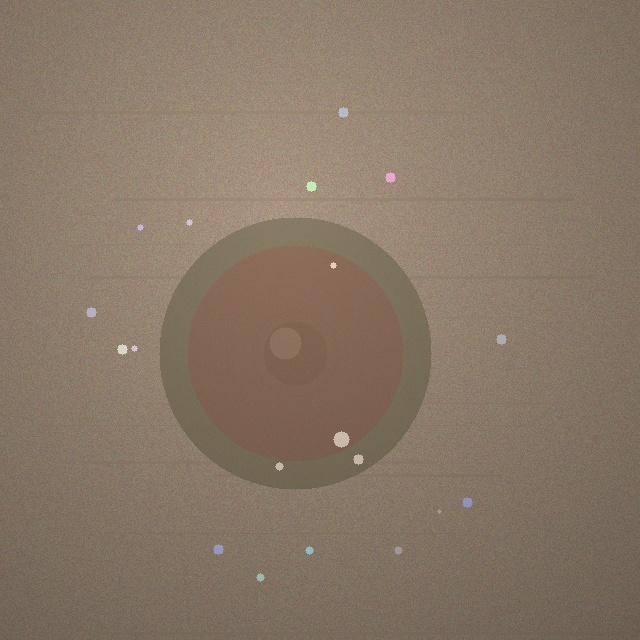overburn: (159, 217, 431, 489)
